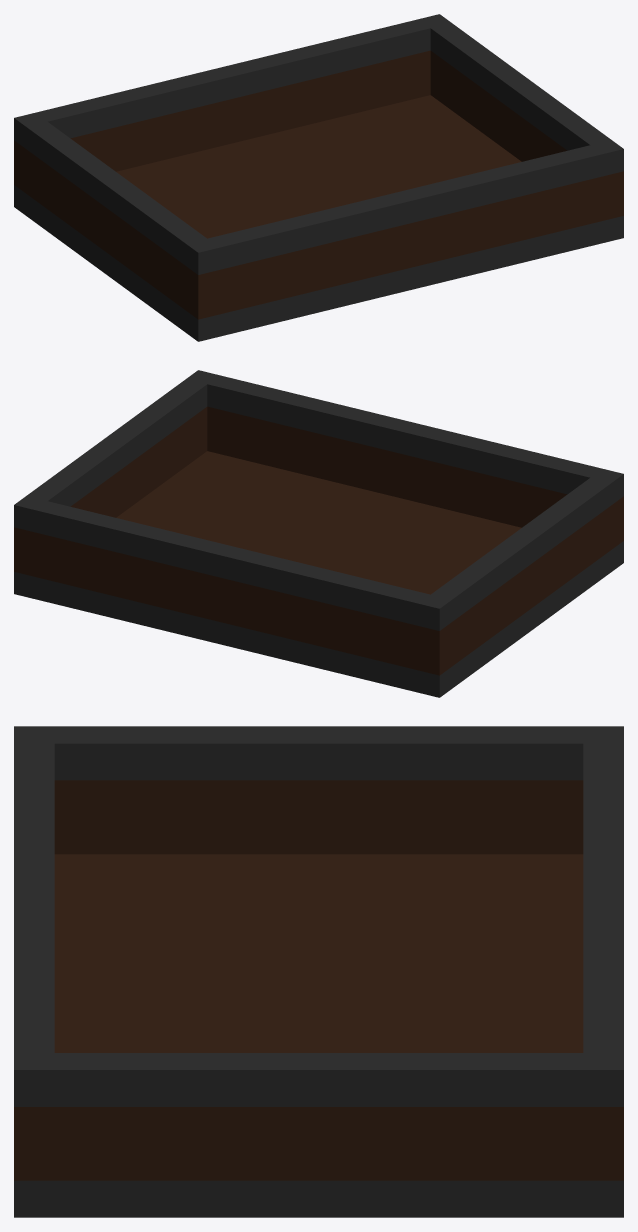
Rendered from Lid 1.fbx.
The picture shows the model from 3 angles, top to bottom: view 1: azimuth 30°, elevation 25°; view 2: azimuth 150°, elevation 25°; view 3: azimuth 270°, elevation 25°; orthographic projection. The views are drawn at different scales.
Visible parts, largest first — view 1: Lid; view 2: Lid; view 3: Lid.
Part boxes in pixels (x1,y1,x2,y2): Lid: (14,14,623,341); Lid: (14,370,623,697); Lid: (14,726,623,1217).
Bounding box in the file's own units: 20 × 4 × 15.
